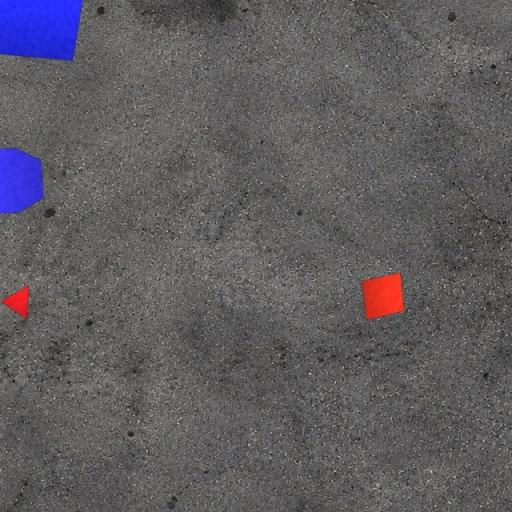BLUE_SQUARE: (0, 0, 86, 62)
RED_SQUARE: (362, 272, 404, 321)
